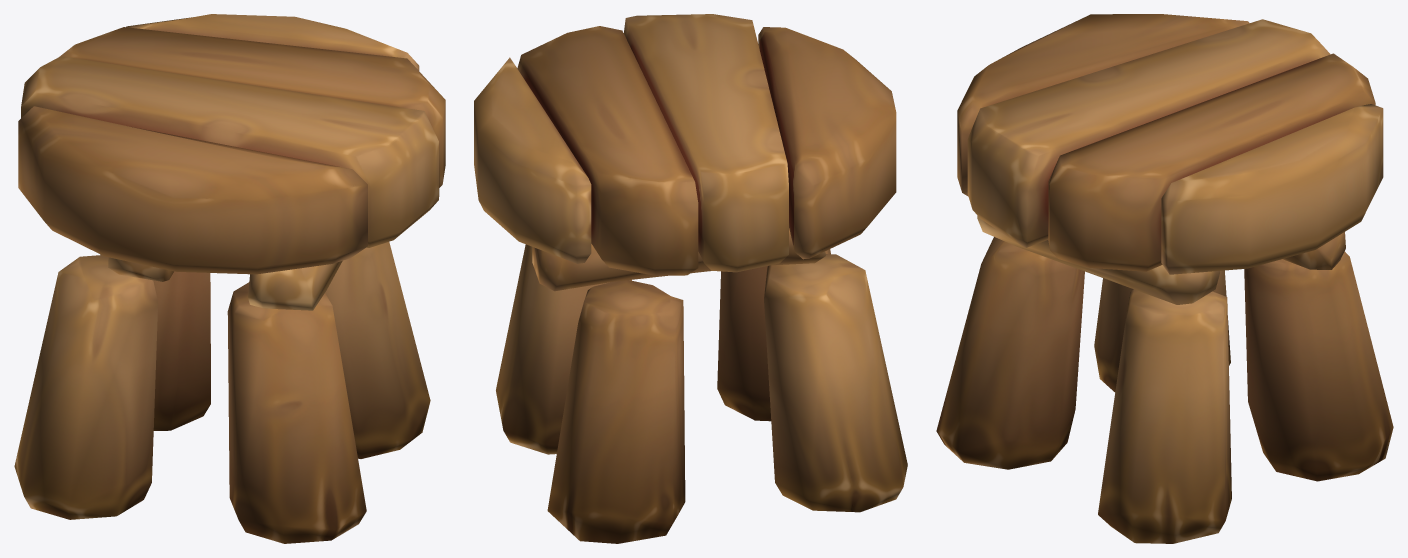
The model's file is Chair.fbx.
3 renders of one model, left to right at view 1: azimuth 30°, elevation 25°; view 2: azimuth 150°, elevation 25°; view 3: azimuth 270°, elevation 25°, orthographic.
Visible parts, largest first — view 1: U_Chair; view 2: U_Chair; view 3: U_Chair.
Boxes of the visible parts, x1,y1,x2,y2 form: U_Chair: (14, 14, 445, 543); U_Chair: (474, 14, 907, 543); U_Chair: (936, 14, 1393, 543).
Size of the model in its own units: 88.75 by 78.72 by 88.64.
Materials: 1 (1 with a texture image).
